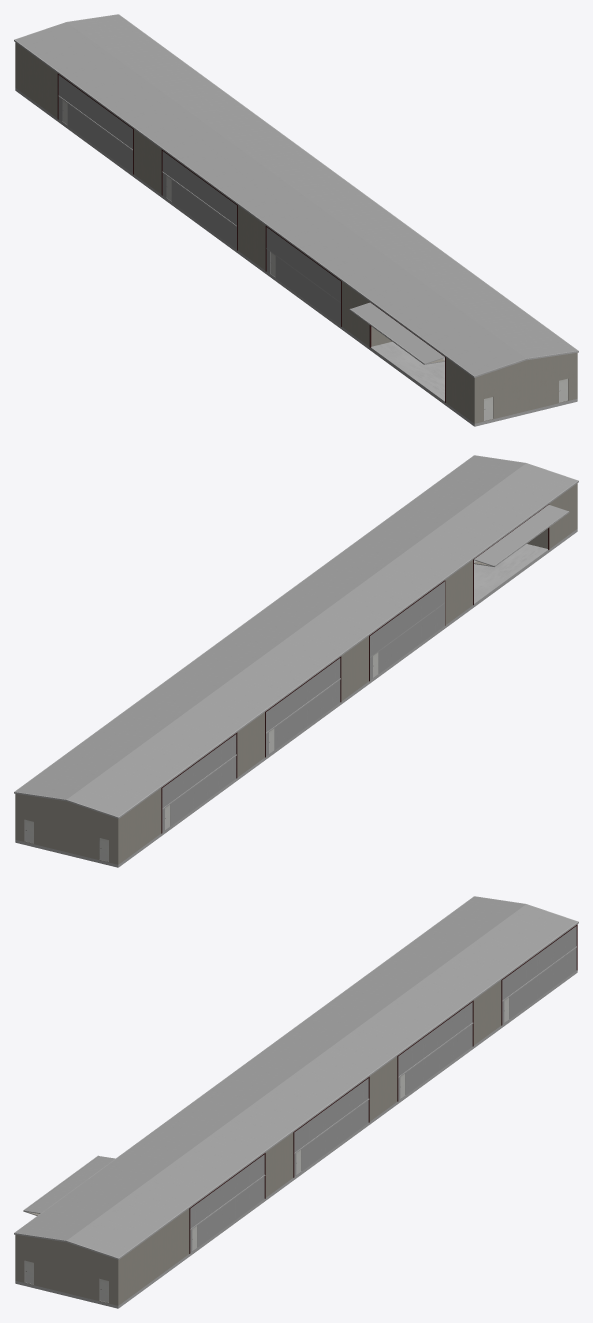
File: gen_open_hangar03-85x11x5-cbj_LOD00.gltf
The picture shows the model from 3 angles, top to bottom: view 1: azimuth 30°, elevation 25°; view 2: azimuth 150°, elevation 25°; view 3: azimuth 330°, elevation 25°; orthographic projection.
Parts seen in each view (by area): view 1: Cube.004; view 2: Cube.004; view 3: Cube.004.
Boxes of the visible parts, box(x1,y1,x2,y2) form: Cube.004: box(14, 14, 578, 426); Cube.004: box(14, 455, 578, 867); Cube.004: box(14, 896, 578, 1308).
Size of the model in its own units: 13.37 by 5.7 by 85.2.
